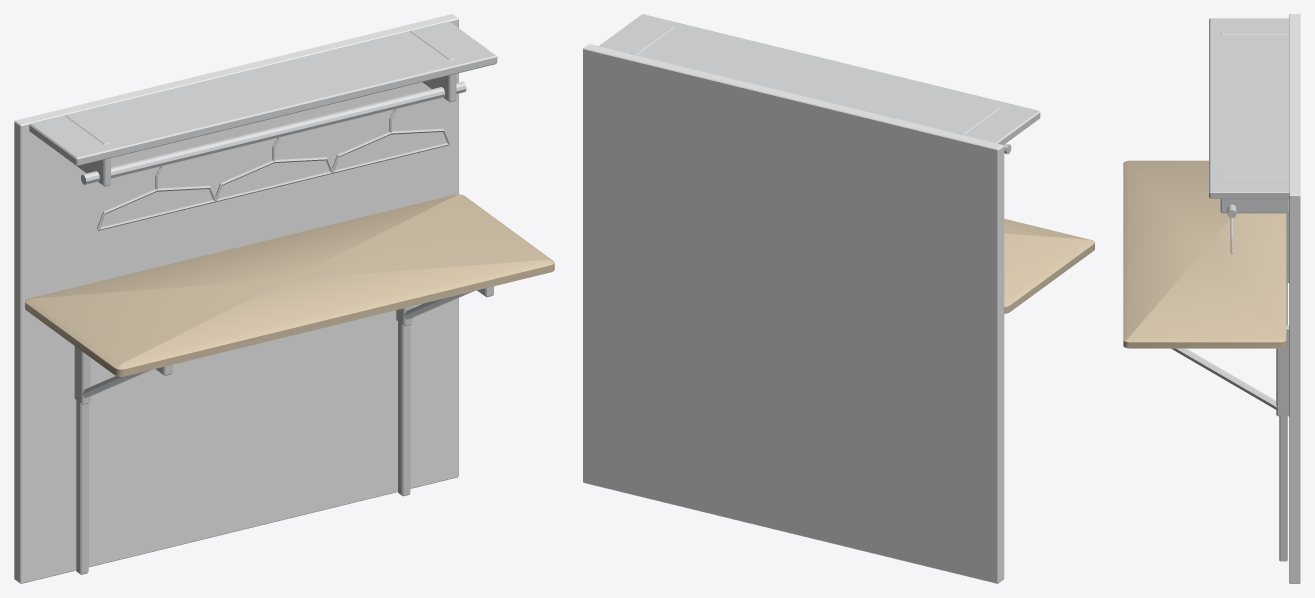
Rendered from laundrette-and-cleaning-folding-table-wall-53964a42__25529.glb.
3 views of the same model, side by side, from view 1: azimuth 30°, elevation 25°; view 2: azimuth 150°, elevation 25°; view 3: azimuth 270°, elevation 25° (orthographic). The views are drawn at different scales.
Parts seen in each view (by area): view 1: folding-table-wall; view 2: folding-table-wall; view 3: folding-table-wall.
Part boxes in pixels (bbox=[...]): folding-table-wall: bbox=[14, 14, 554, 583]; folding-table-wall: bbox=[583, 14, 1094, 583]; folding-table-wall: bbox=[1123, 14, 1300, 583].
Size of the model in its own units: 1.5 by 1.5 by 0.62.
